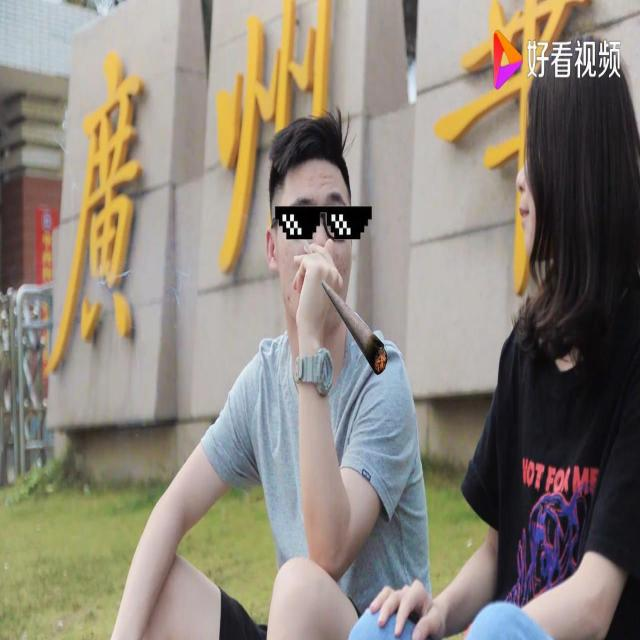cigarette: (299, 231, 319, 262)
